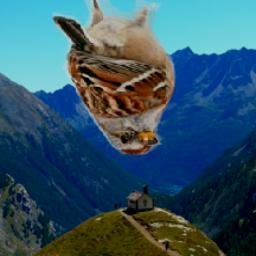Sparrow: (52, 0, 175, 155)
